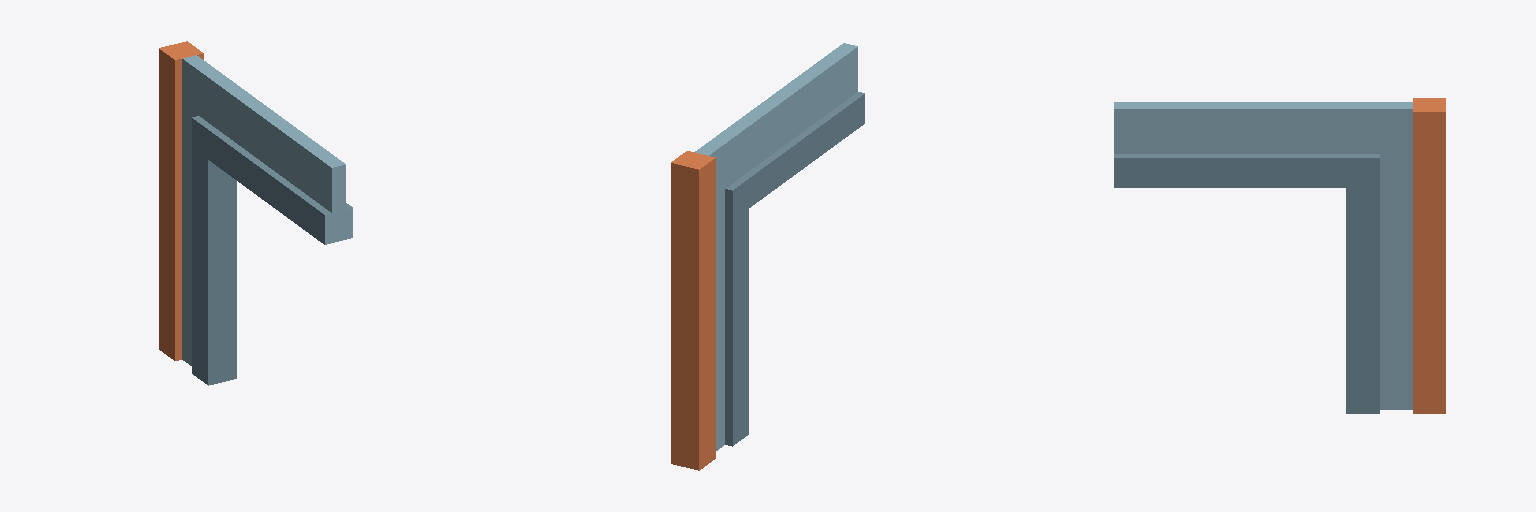
The model's file is wallDoorwaySquareWide.obj.
3 views of the same model, side by side, from view 1: azimuth 30°, elevation 25°; view 2: azimuth 150°, elevation 25°; view 3: azimuth 270°, elevation 25° (orthographic).
Parts seen in each view (by area): view 1: wallDoorwaySquareWide; view 2: wallDoorwaySquareWide; view 3: wallDoorwaySquareWide.
Part boxes in pixels (x1,y1,x2,y2): wallDoorwaySquareWide: (159,41,352,385); wallDoorwaySquareWide: (671,43,864,470); wallDoorwaySquareWide: (1114,98,1445,413).
Size of the model in its own units: 0.1 by 1 by 1.